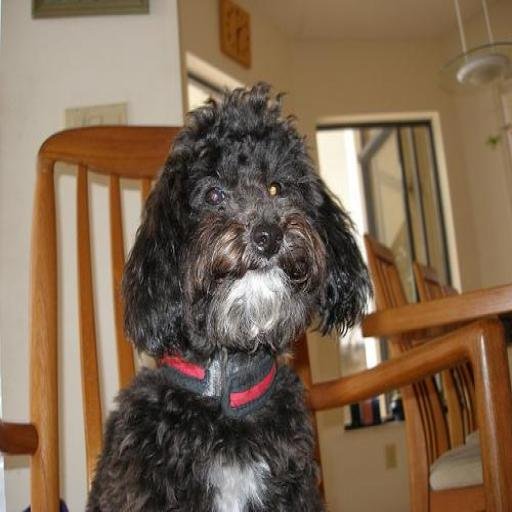dog_face: (118, 97, 356, 343)
